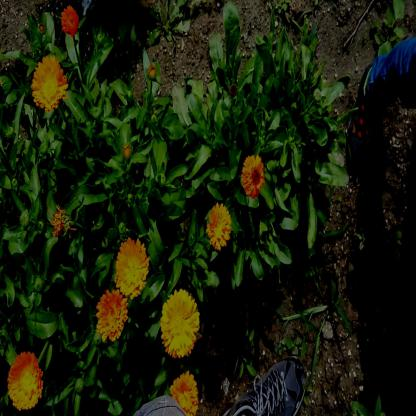marigold: (162, 290, 199, 358), (7, 350, 43, 410), (114, 238, 146, 297), (32, 56, 68, 108), (96, 288, 126, 338), (242, 154, 267, 198), (206, 202, 230, 245), (170, 371, 196, 410)
